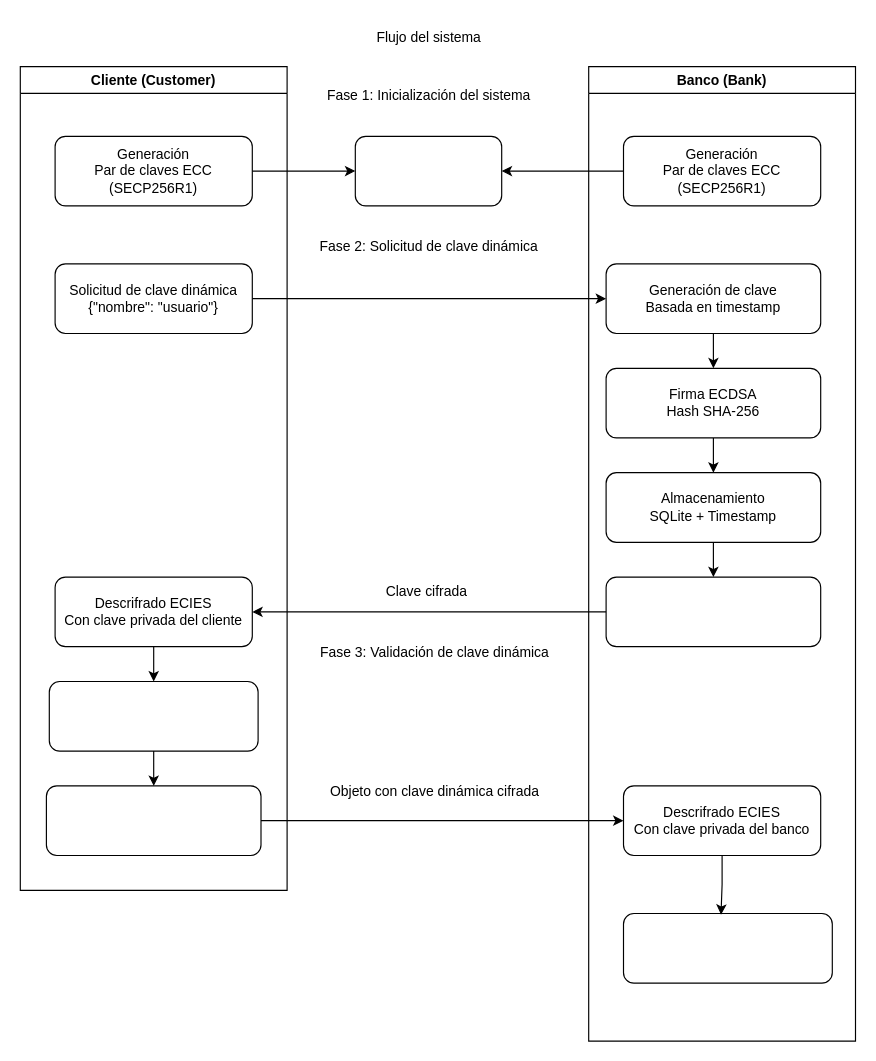
Image size: 876x1061. Some labels were removed from this diagram. The shapes that lost their labels are listed below. From the top down, each one's centre as x and y in pixels, then its label:
(428,170): Volumen compartido
(713,611): Cifrado ECIES AES-GCM Con clave publica cliente
(153,715): Validación {"nombre": nombre, "key": "Key"}
(153,820): Cifrado ECIES AES-GCM Con clave publica banco
(727,947): Verificación ECDSA + Validación Timestamp
